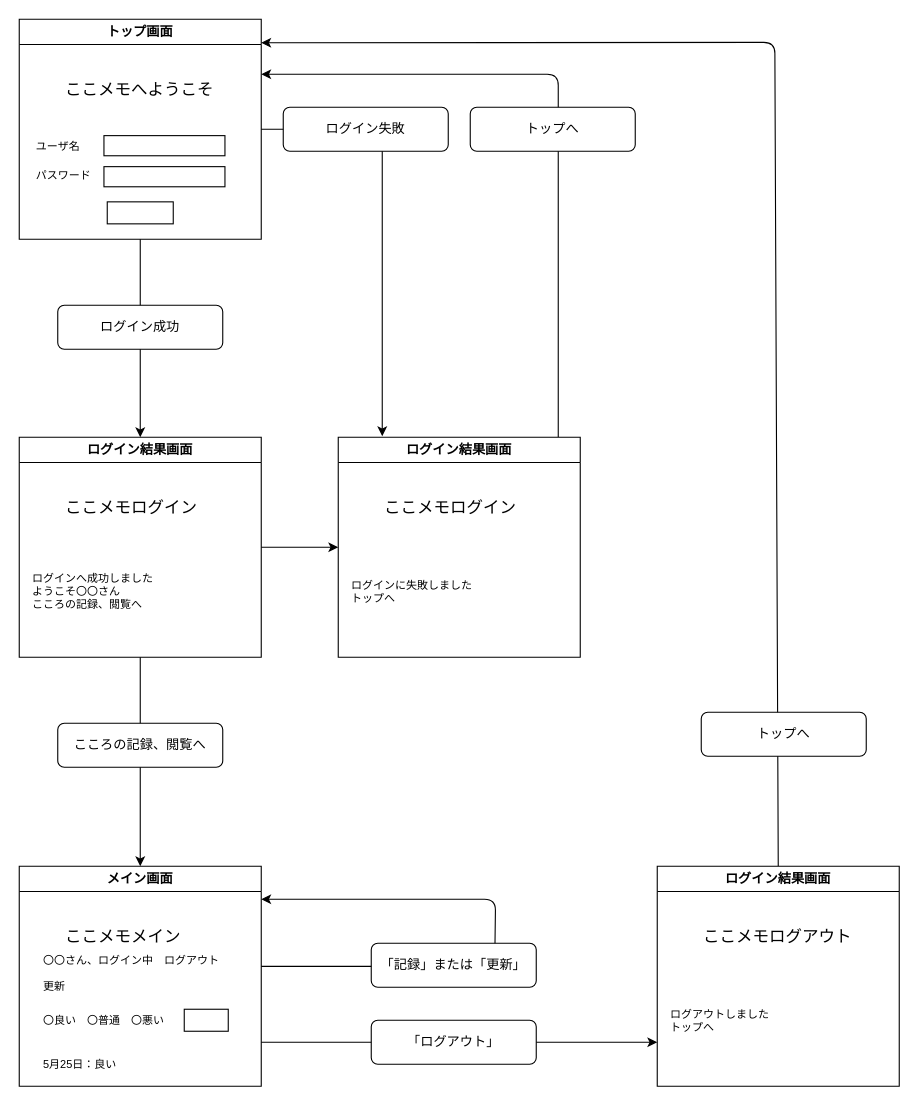
Some shapes in this 919 by 1106 pixel diagram are drawn without their labels. The shapes that lost their labels are listed below. From the top down, each one's centre as x and y in pixels, then its label:
At (x=139, y=212): "ログイン".
At (x=205, y=1019): "記録".
